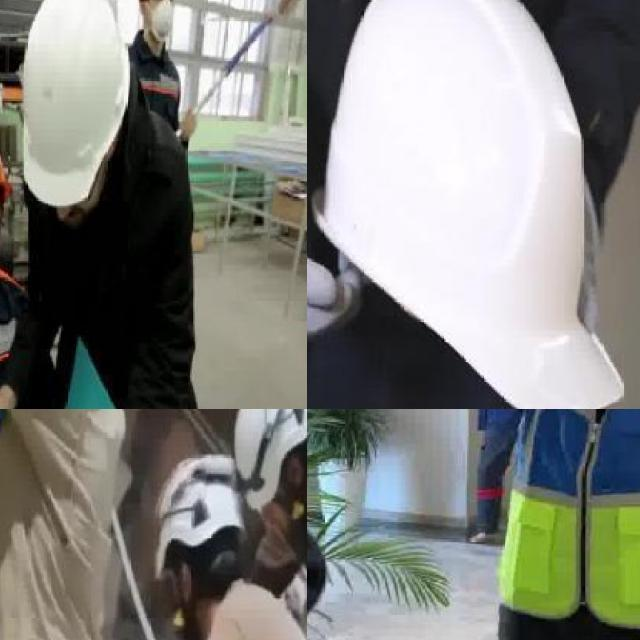apron: (307, 73, 364, 348)
